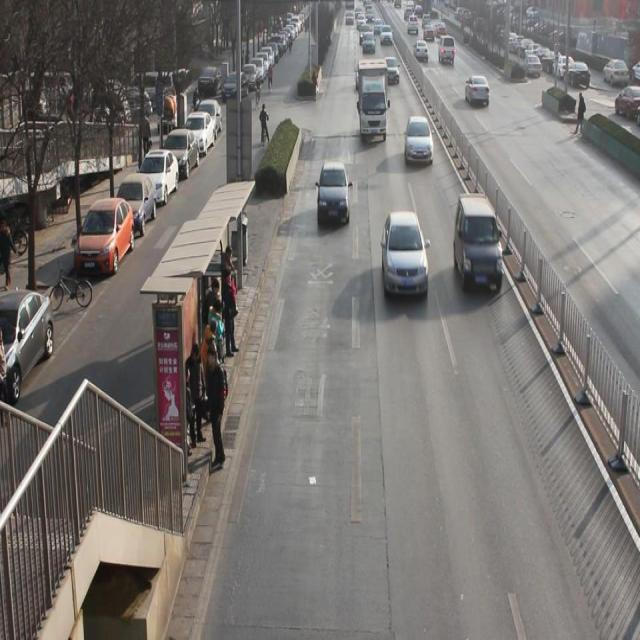bus: (359, 64, 388, 141)
car: (457, 192, 505, 296), (382, 207, 429, 300), (315, 162, 353, 226), (404, 119, 435, 164), (466, 76, 494, 108), (384, 52, 402, 84), (412, 38, 429, 64), (362, 32, 377, 55), (380, 24, 394, 45)
truck: (439, 35, 456, 63)
